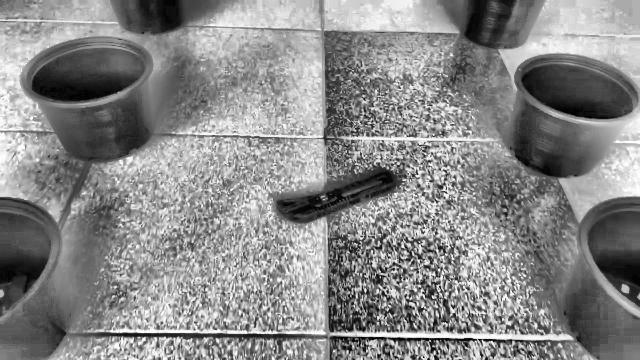pot: (18, 36, 155, 164), (506, 54, 640, 179)
